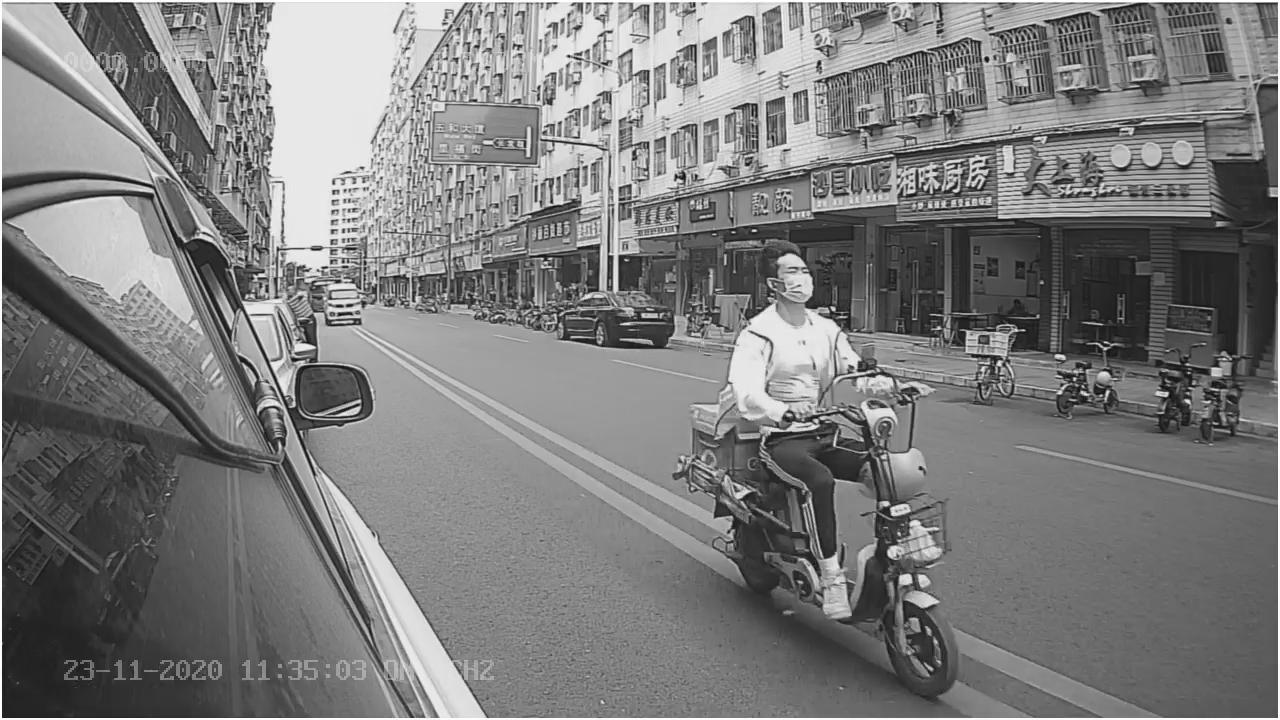person: (725, 234, 889, 418)
